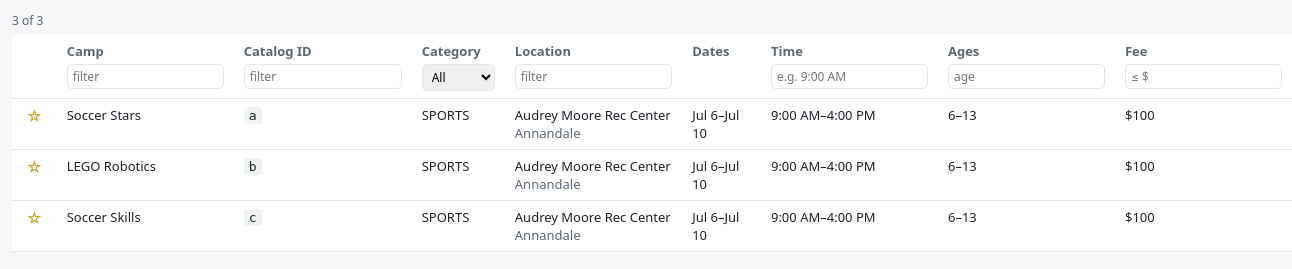
Test: CampTable filtering › sorts when a header is clicked
The width and height of the screenshot is (1292, 269).
Step 1. Click the button "Camp" → (85, 51), box 67,42 -> 104,60
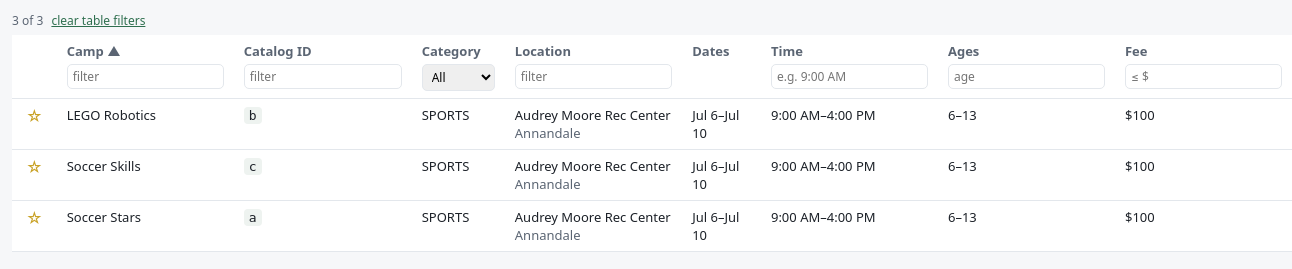
Result: the cell "LEGO Robotics" is shown at 57,98 -> 234,150
